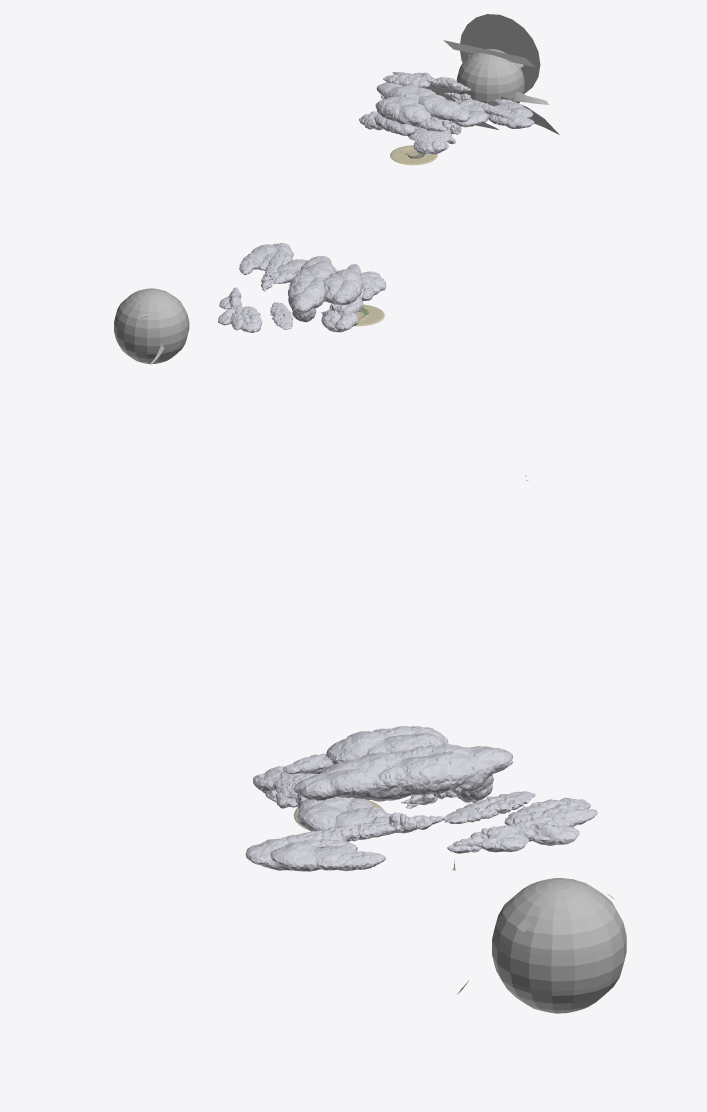
File: BstBaked.glb
3 renders of one model, top to bottom at view 1: azimuth 30°, elevation 25°; view 2: azimuth 150°, elevation 25°; view 3: azimuth 270°, elevation 25°, orthographic. The views are drawn at different scales.
Visible parts, largest first — view 1: BstBaked_cloud, BstBaked_StormCardGlow_01, BstBaked_FeastBall, BstBaked_terrain, BstBaked_StormCard_03b, BstBaked_StormCardClouds_02; view 2: BstBaked_cloud, BstBaked_FeastBall, BstBaked_terrain; view 3: BstBaked_cloud, BstBaked_FeastBall.
Boxes of the visible parts, x1,y1,x2,y2 form: BstBaked_cloud: (359, 71, 534, 154); BstBaked_StormCardGlow_01: (460, 14, 540, 93); BstBaked_FeastBall: (456, 49, 524, 113); BstBaked_terrain: (390, 145, 437, 165); BstBaked_StormCard_03b: (443, 40, 534, 66); BstBaked_StormCardClouds_02: (423, 84, 559, 134); BstBaked_cloud: (218, 243, 386, 332); BstBaked_FeastBall: (114, 288, 189, 363); BstBaked_terrain: (355, 304, 384, 326); BstBaked_cloud: (245, 726, 597, 871); BstBaked_FeastBall: (492, 878, 626, 1013).
Size of the model in its own units: 8651 by 1222 by 3996.
